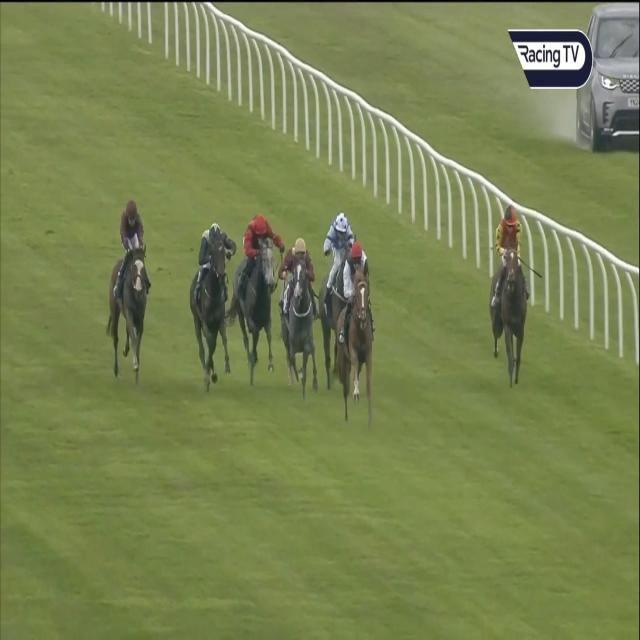horses-racing: (107, 199, 154, 390), (338, 236, 384, 429), (487, 200, 534, 387), (184, 210, 232, 381), (236, 210, 282, 374), (278, 235, 317, 385), (318, 204, 354, 308)
